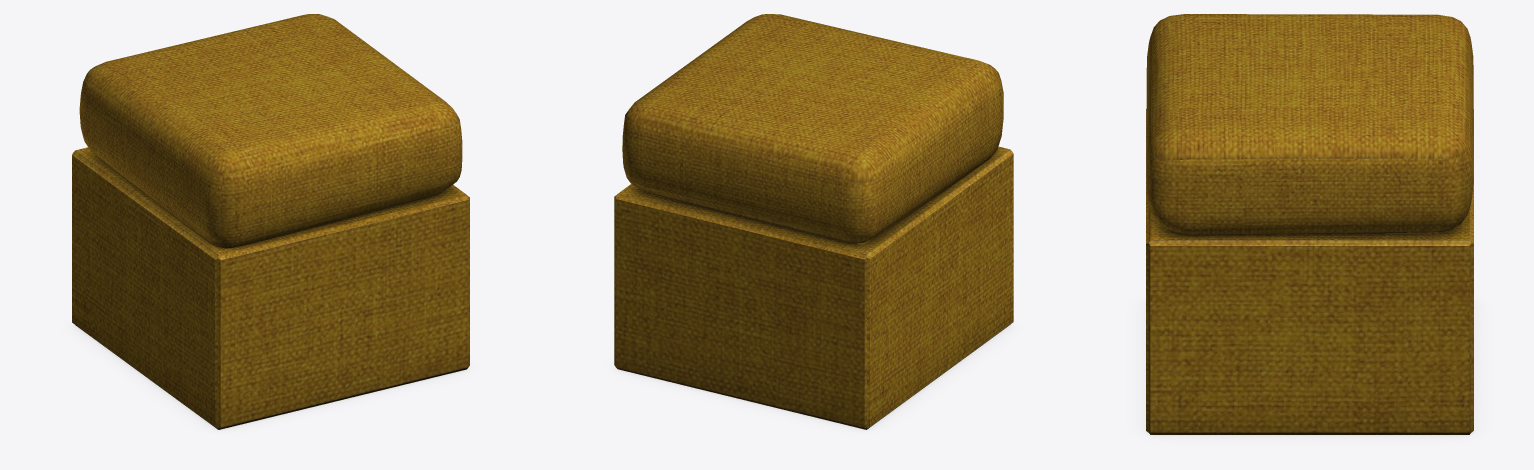
Rendered from puff-yellow.glb.
3 views of the same model, side by side, from view 1: azimuth 30°, elevation 25°; view 2: azimuth 150°, elevation 25°; view 3: azimuth 270°, elevation 25° (orthographic). The views are drawn at different scales.
Visible parts, largest first — view 1: Base, Puff Yellow, Shadow; view 2: Base, Puff Yellow, Shadow; view 3: Puff Yellow, Base, Shadow.
Part boxes in pixels (bbox=[...]): Base: bbox=[72, 147, 469, 429]; Puff Yellow: bbox=[79, 14, 462, 248]; Shadow: bbox=[70, 323, 471, 432]; Base: bbox=[614, 146, 1013, 429]; Puff Yellow: bbox=[622, 14, 1003, 243]; Shadow: bbox=[612, 323, 1015, 432]; Puff Yellow: bbox=[1146, 14, 1473, 235]; Base: bbox=[1146, 109, 1473, 434]; Shadow: bbox=[1137, 299, 1482, 440].
Size of the model in its own units: 1.28 by 0.9984 by 1.28.
3 materials, 3 textured.
